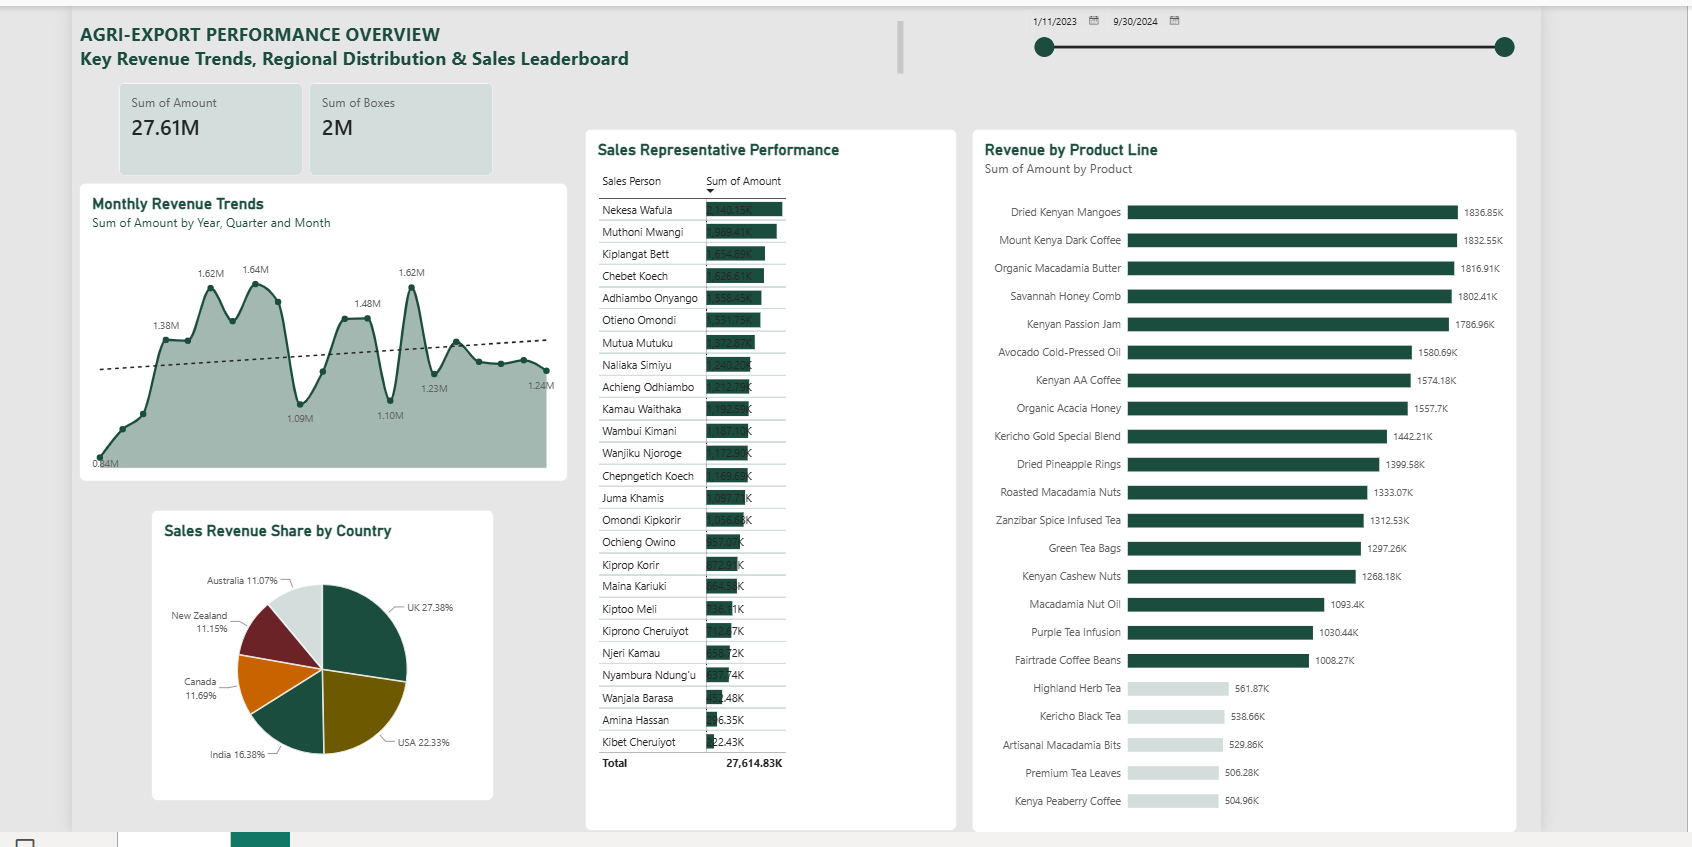

This screenshot's page, from the dashboard's own definition file:
{"tool":"powerbi","page":{"name":"Page 1","canvas":[1920,1080],"ordinal":0},"visuals":[{"type":"lineChart","title":"Monthly Revenue Trends","fields":{"Category":["data.Date.Variation.Date Hierarchy.Year","data.Date.Variation.Date Hierarchy.Quarter","data.Date.Variation.Date Hierarchy.Month","data.Date.Variation.Date Hierarchy.Day"],"Y":["Sum(data.Amount)"]},"box":[10,110,826.9,406.4],"z":0},{"type":"cardVisual","fields":{"Data":["Sum(data.Amount)","Sum(data.Boxes)"]},"box":[10,940,490,122.5],"z":1000},{"type":"donutChart","title":"Sales Revenue Distribution by Country","fields":{"Category":["data.Country"],"Y":["Sum(data.Amount)"]},"box":[32.5,540,447.5,380],"z":2000},{"type":"tableEx","fields":{"Values":["data.Sales Person","Sum(data.Amount)"]},"box":[562.5,517.5,522.5,562.5],"z":3000},{"type":"clusteredBarChart","fields":{"Category":["data.Product"],"Y":["Sum(data.Amount)"]},"box":[1177.5,160,712.5,920],"z":4000},{"type":"slicer","fields":{"Values":["data.Date"]},"box":[1240,0,650,122.5],"z":5000},{"type":"textbox","box":[10,20,1077.5,75],"z":5001}]}

Visuals, with their boxes on the page's 1920x1080 design canvas (x1, y1, x2, y2). These are canvas units, not pixel positions in the 1692x847 screenshot, which may show the page scaled, cropped or inside an application window:
"Monthly Revenue Trends" lineChart: select_region(10, 110, 837, 516)
cardVisual - Sum(data.Amount) x Sum(data.Boxes): select_region(10, 940, 500, 1062)
"Sales Revenue Distribution by Country" donutChart: select_region(32, 540, 480, 920)
tableEx - data.Sales Person x Sum(data.Amount): select_region(562, 518, 1085, 1080)
clusteredBarChart - data.Product x Sum(data.Amount): select_region(1178, 160, 1890, 1080)
slicer - data.Date: select_region(1240, 0, 1890, 122)
textbox: select_region(10, 20, 1088, 95)
